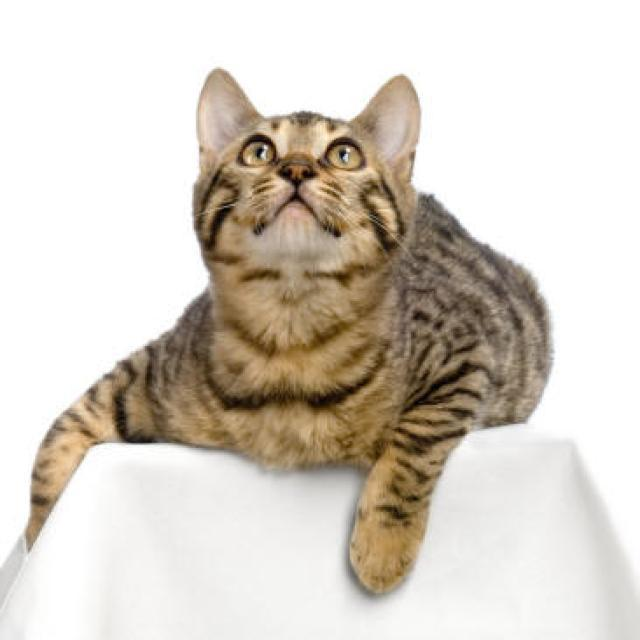Bengal: (188, 58, 428, 278)
